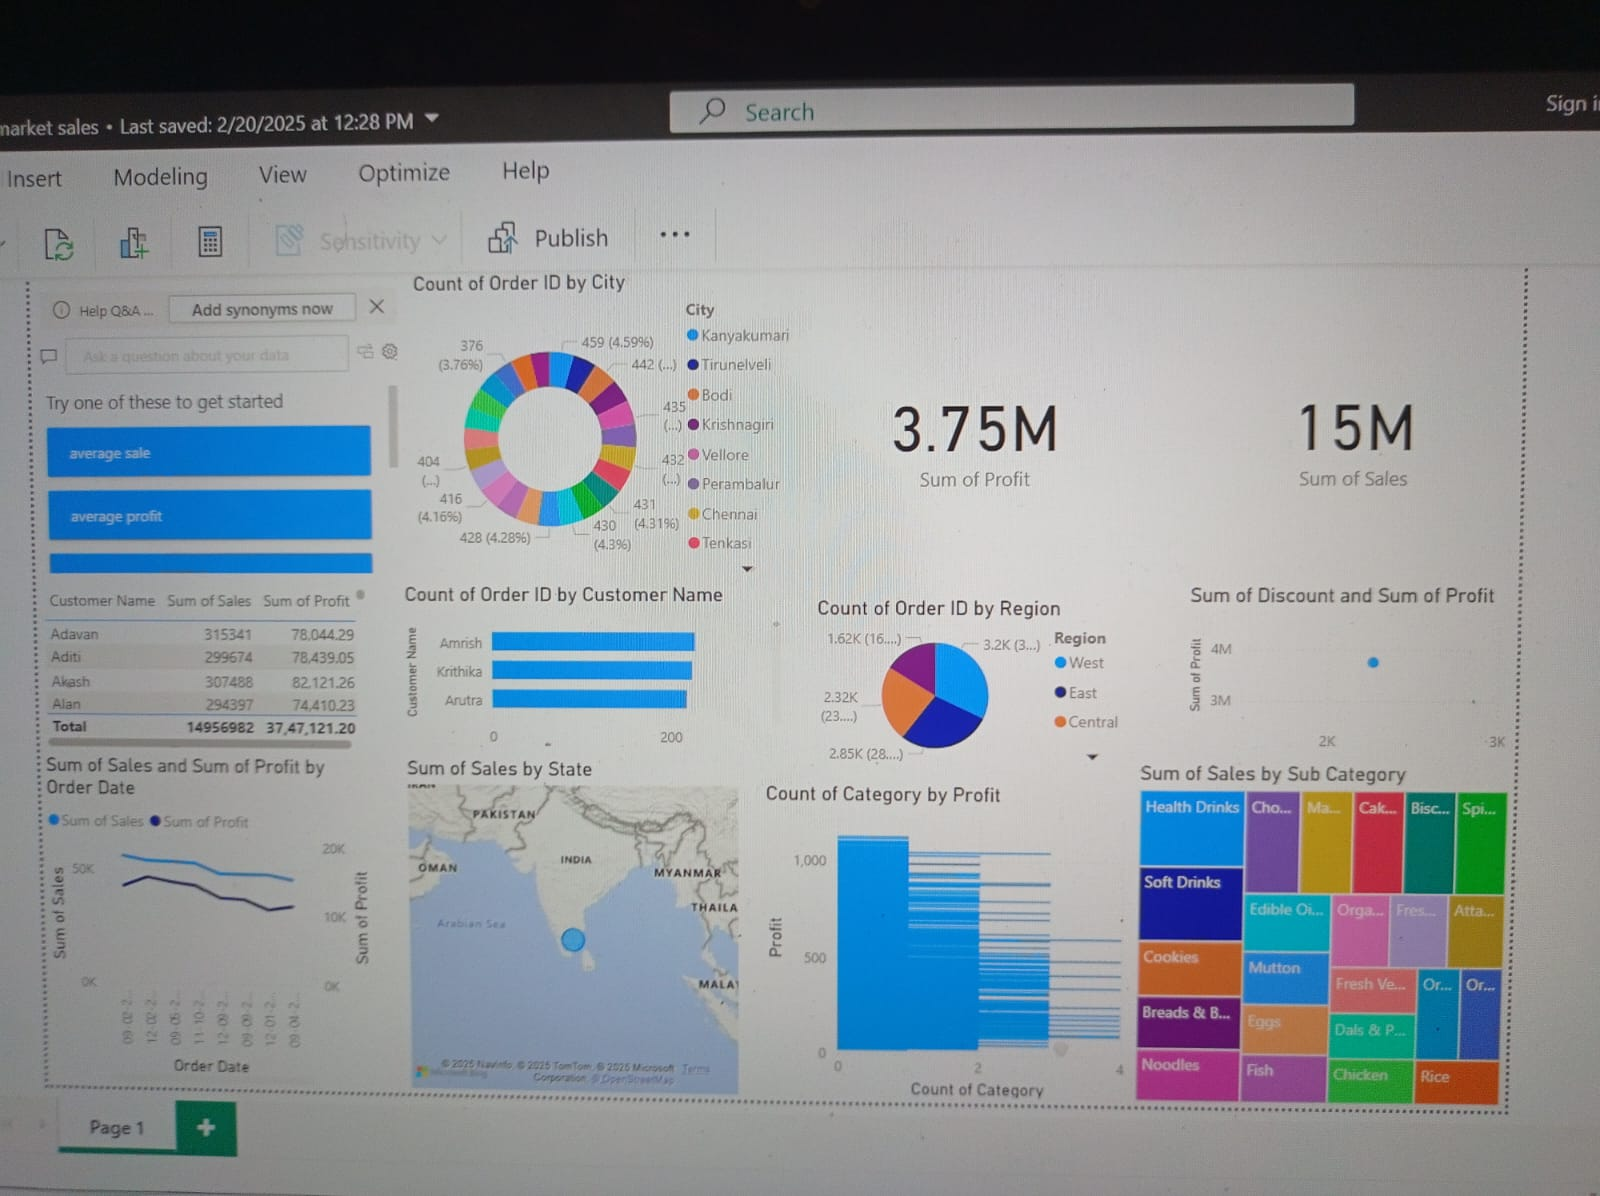

This screenshot's page, from the dashboard's own definition file:
{"tool":"powerbi","page":{"name":"Page 1","canvas":[1280,720],"ordinal":0},"visuals":[{"type":"card","fields":{"Values":["Supermart Grocery Sales - Retail Analytics Dataset.Sales"]},"box":[999.7,0,279.7,279.7],"z":0},{"type":"card","fields":{"Values":["Supermart Grocery Sales - Retail Analytics Dataset.Profit"]},"box":[684.1,0,275.9,279.7],"z":1000},{"type":"lineChart","fields":{"Category":["Supermart Grocery Sales - Retail Analytics Dataset.Order Date"],"Y":["Supermart Grocery Sales - Retail Analytics Dataset.Sales"],"Y2":["Supermart Grocery Sales - Retail Analytics Dataset.Profit"]},"box":[0,419.5,300.5,300.5],"z":2000},{"type":"map","fields":{"Category":["Supermart Grocery Sales - Retail Analytics Dataset.State"],"Size":["Supermart Grocery Sales - Retail Analytics Dataset.Sales"]},"box":[326.9,419.5,300.5,300.5],"z":3000},{"type":"barChart","fields":{"Y":["Supermart Grocery Sales - Retail Analytics Dataset.Category"],"Category":["Supermart Grocery Sales - Retail Analytics Dataset.Profit","Supermart Grocery Sales - Retail Analytics Dataset.Sales"]},"box":[640.6,440.3,319.4,279.7],"z":4000},{"type":"treemap","fields":{"Group":["Supermart Grocery Sales - Retail Analytics Dataset.Sub Category"],"Values":["Supermart Grocery Sales - Retail Analytics Dataset.Sales"]},"box":[960,419.5,319.4,300.5],"z":5000},{"type":"scatterChart","fields":{"X":["Supermart Grocery Sales - Retail Analytics Dataset.Discount"],"Y":["Supermart Grocery Sales - Retail Analytics Dataset.Profit"]},"box":[999.7,268.3,275.9,151.2],"z":6000},{"type":"pieChart","fields":{"Category":["Supermart Grocery Sales - Retail Analytics Dataset.Region"],"Y":["Supermart Grocery Sales - Retail Analytics Dataset.Order ID"]},"box":[684,280,276,150],"z":7000},{"type":"tableEx","fields":{"Values":["Supermart Grocery Sales - Retail Analytics Dataset.Customer Name","Supermart Grocery Sales - Retail Analytics Dataset.Sales","Supermart Grocery Sales - Retail Analytics Dataset.Profit"]},"box":[1.9,268.3,300.5,151.2],"z":8000},{"type":"barChart","fields":{"Category":["Supermart Grocery Sales - Retail Analytics Dataset.Customer Name"],"Y":["Supermart Grocery Sales - Retail Analytics Dataset.Order ID"]},"box":[326.9,268.3,336.4,151.2],"z":9000},{"type":"qnaVisual","box":[0,0,336.4,268.3],"z":10000},{"type":"donutChart","fields":{"Category":["Supermart Grocery Sales - Retail Analytics Dataset.City"],"Y":["Supermart Grocery Sales - Retail Analytics Dataset.Order ID"]},"box":[336.4,0,347.7,268.3],"z":10001}]}

Visuals, with their boxes on the page's 1280x720 design canvas (x1, y1, x2, y2). These are canvas units, not pixel positions in the 1600x1196 screenshot, which may show the page scaled, cropped or inside an application window:
card - Supermart Grocery Sales - Retail Analytics Dataset.Sales: left=1000, top=0, right=1279, bottom=280
card - Supermart Grocery Sales - Retail Analytics Dataset.Profit: left=684, top=0, right=960, bottom=280
lineChart - Supermart Grocery Sales - Retail Analytics Dataset.Order Date x Supermart Grocery Sales - Retail Analytics Dataset.Sales: left=0, top=420, right=300, bottom=720
map - Supermart Grocery Sales - Retail Analytics Dataset.State x Supermart Grocery Sales - Retail Analytics Dataset.Sales: left=327, top=420, right=627, bottom=720
barChart - Supermart Grocery Sales - Retail Analytics Dataset.Category x Supermart Grocery Sales - Retail Analytics Dataset.Profit: left=641, top=440, right=960, bottom=720
treemap - Supermart Grocery Sales - Retail Analytics Dataset.Sub Category x Supermart Grocery Sales - Retail Analytics Dataset.Sales: left=960, top=420, right=1279, bottom=720
scatterChart - Supermart Grocery Sales - Retail Analytics Dataset.Discount x Supermart Grocery Sales - Retail Analytics Dataset.Profit: left=1000, top=268, right=1276, bottom=420
pieChart - Supermart Grocery Sales - Retail Analytics Dataset.Region x Supermart Grocery Sales - Retail Analytics Dataset.Order ID: left=684, top=280, right=960, bottom=430
tableEx - Supermart Grocery Sales - Retail Analytics Dataset.Customer Name x Supermart Grocery Sales - Retail Analytics Dataset.Sales: left=2, top=268, right=302, bottom=420
barChart - Supermart Grocery Sales - Retail Analytics Dataset.Customer Name x Supermart Grocery Sales - Retail Analytics Dataset.Order ID: left=327, top=268, right=663, bottom=420
qnaVisual: left=0, top=0, right=336, bottom=268
donutChart - Supermart Grocery Sales - Retail Analytics Dataset.City x Supermart Grocery Sales - Retail Analytics Dataset.Order ID: left=336, top=0, right=684, bottom=268
